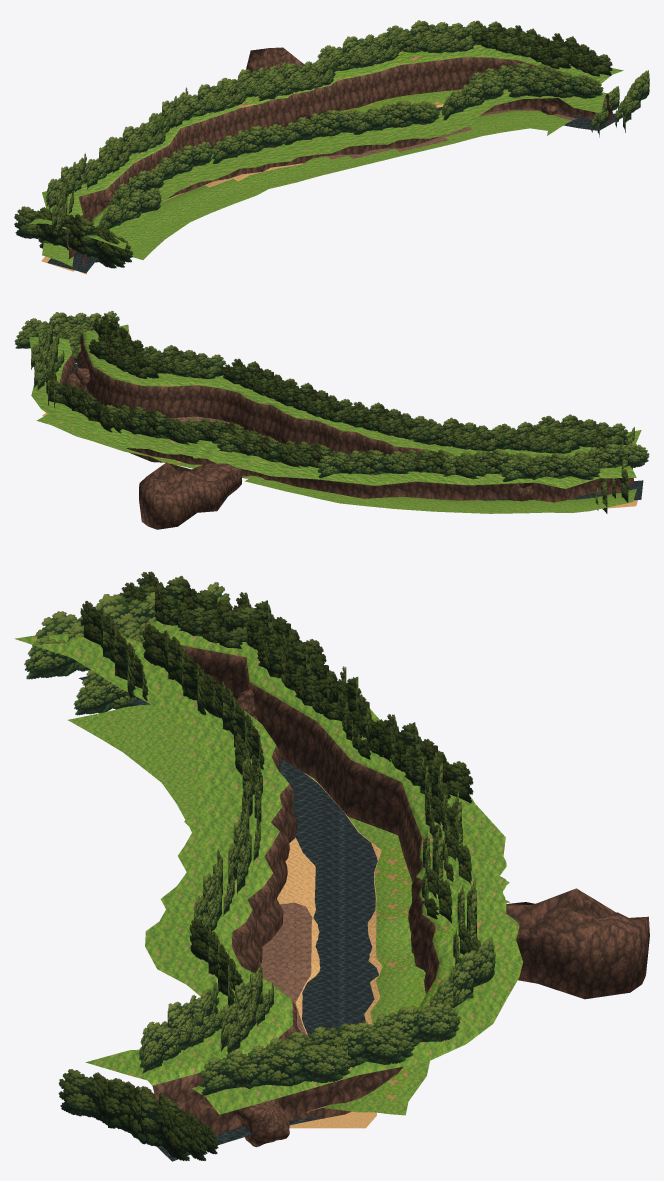
The model's file is akatsuki.glb.
3 views of the same model, one above another, from view 1: azimuth 30°, elevation 25°; view 2: azimuth 150°, elevation 25°; view 3: azimuth 270°, elevation 25° (orthographic). The views are drawn at different scales.
Visible parts, largest first — view 1: Map; view 2: Map; view 3: Map.
Boxes of the visible parts, x1,y1,x2,y2 form: Map: [14, 20, 649, 274]; Map: [14, 311, 649, 529]; Map: [14, 571, 649, 1161].
Bounding box in the file's own units: 985 × 114 × 497.
Materials: 7 (7 with a texture image).
